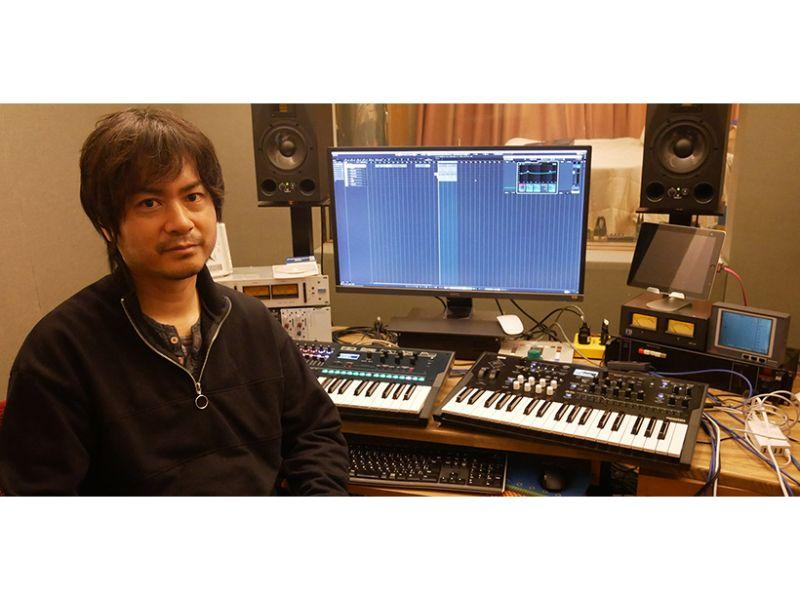synthesizer: (451, 352, 694, 451), (333, 343, 430, 418)
